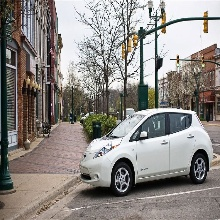no damage: (77, 108, 213, 195)
